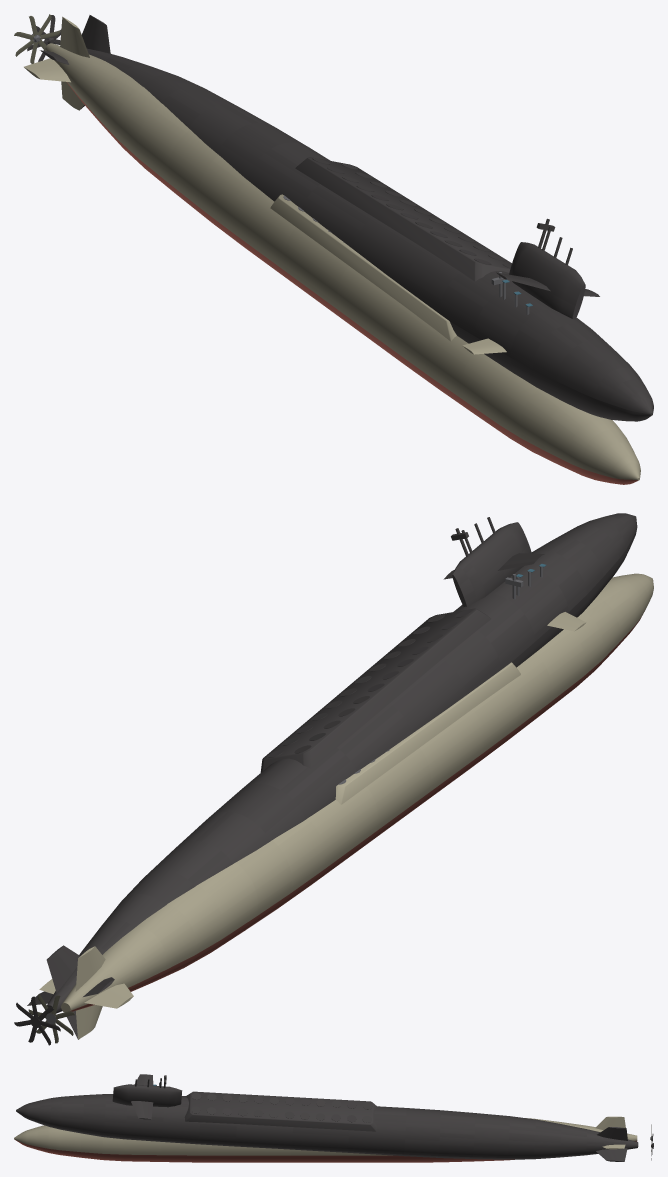
The model's file is nuclearSub__ohio_class.glb.
3 views of the same model, one above another, from view 1: azimuth 30°, elevation 25°; view 2: azimuth 150°, elevation 25°; view 3: azimuth 270°, elevation 25° (orthographic). The views are drawn at different scales.
Visible parts, largest first — view 1: Wreck, Hull_Mesh; view 2: Wreck, Hull_Mesh; view 3: Wreck, Hull_Mesh.
Part boxes in pixels (x1,y1,x2,y2): Wreck: [27, 15, 653, 421]; Hull_Mesh: [14, 14, 640, 484]; Wreck: [14, 513, 637, 1045]; Hull_Mesh: [28, 564, 653, 1043]; Wreck: [16, 1074, 653, 1161]; Hull_Mesh: [14, 1084, 652, 1162].
Size of what is drawn, in the model's own units: 20.78 by 28.36 by 168.
